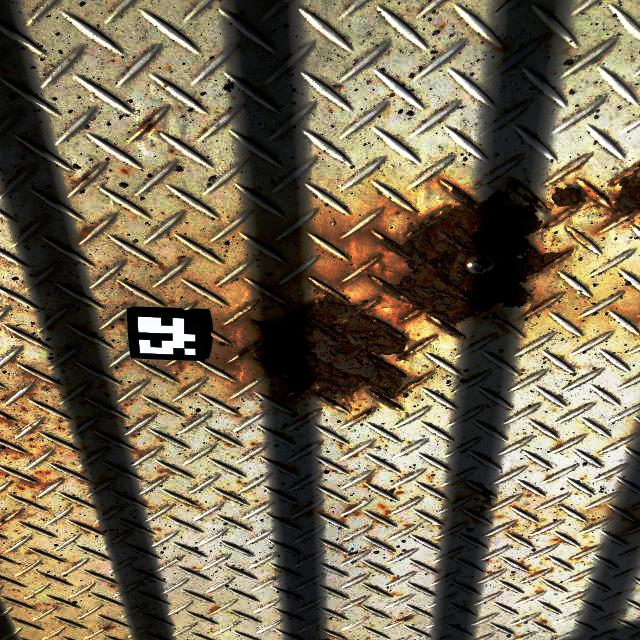Corrosion: (365, 177, 574, 339), (234, 288, 438, 410), (583, 160, 640, 226), (274, 276, 332, 306), (550, 184, 591, 216), (227, 316, 258, 352), (247, 294, 288, 321), (227, 356, 263, 384), (22, 369, 64, 389), (491, 313, 517, 336), (472, 489, 494, 515), (19, 476, 53, 489), (75, 167, 98, 186), (137, 116, 159, 134), (300, 407, 324, 423), (364, 253, 384, 272), (77, 225, 96, 244), (569, 230, 589, 247), (467, 513, 489, 527), (4, 447, 35, 456), (0, 414, 15, 429), (492, 42, 510, 52), (359, 407, 375, 417), (317, 635, 343, 640), (223, 495, 239, 503), (150, 633, 167, 640), (76, 478, 93, 485), (396, 615, 412, 622), (238, 305, 252, 313), (21, 422, 36, 429), (100, 625, 116, 631), (78, 527, 91, 534), (24, 392, 37, 399), (128, 449, 143, 455), (0, 468, 10, 476), (4, 394, 14, 402), (583, 546, 596, 552), (19, 406, 30, 413), (14, 333, 25, 340), (286, 467, 298, 473), (211, 607, 221, 614), (34, 471, 51, 475), (109, 412, 120, 418), (573, 576, 584, 582), (117, 281, 125, 289), (348, 504, 358, 510), (512, 532, 522, 538), (178, 362, 185, 370), (159, 263, 166, 271), (119, 316, 126, 324), (86, 303, 94, 310), (543, 33, 551, 40), (143, 413, 154, 418), (91, 450, 102, 455), (426, 174, 435, 180), (376, 519, 385, 525), (320, 510, 329, 516), (93, 527, 103, 532), (45, 324, 55, 329), (139, 499, 147, 505), (555, 444, 563, 450), (570, 557, 582, 561), (352, 415, 359, 421), (234, 411, 241, 417), (122, 169, 129, 175), (146, 578, 156, 582), (13, 514, 21, 519), (9, 358, 17, 363), (533, 571, 543, 575), (367, 476, 373, 482), (0, 518, 6, 524), (554, 539, 563, 543), (274, 568, 281, 573), (28, 430, 35, 435), (1, 488, 9, 492), (436, 569, 442, 574), (57, 477, 63, 482), (76, 504, 86, 507), (80, 401, 86, 406), (29, 273, 35, 278), (536, 591, 546, 594), (520, 560, 525, 566), (476, 182, 483, 186), (396, 491, 403, 495), (157, 476, 164, 480), (154, 528, 161, 532), (18, 487, 25, 491), (29, 444, 36, 448), (526, 493, 533, 497), (385, 510, 390, 515), (202, 128, 207, 133), (9, 480, 14, 485), (2, 68, 7, 73), (454, 496, 460, 500), (339, 444, 343, 450), (131, 434, 137, 438), (214, 281, 220, 285), (512, 523, 518, 527), (536, 527, 542, 531), (379, 505, 386, 508), (404, 525, 411, 528), (27, 551, 34, 554), (340, 518, 345, 522), (198, 506, 203, 510), (169, 471, 174, 475), (158, 470, 163, 474), (227, 443, 232, 447), (251, 442, 256, 446), (119, 420, 124, 424), (178, 257, 183, 261), (58, 420, 63, 424), (67, 503, 72, 507), (24, 364, 29, 368), (185, 503, 191, 506), (80, 471, 86, 474), (545, 557, 551, 560), (542, 620, 548, 623), (392, 549, 396, 553), (317, 441, 321, 445), (124, 403, 128, 407), (82, 446, 86, 450), (119, 364, 123, 368), (446, 500, 451, 503), (393, 577, 398, 580), (105, 393, 110, 396), (169, 301, 174, 304), (170, 150, 175, 153), (227, 111, 232, 114), (73, 451, 78, 454), (395, 212, 400, 215), (591, 518, 596, 521), (449, 484, 456, 486), (120, 638, 127, 640), (364, 485, 368, 488), (439, 526, 442, 530), (450, 509, 454, 512), (332, 470, 336, 473), (110, 585, 114, 588), (255, 500, 259, 503), (230, 491, 234, 494), (215, 436, 218, 440), (123, 302, 126, 306), (163, 85, 167, 88), (32, 496, 36, 499), (77, 456, 81, 459), (49, 280, 52, 284), (361, 398, 366, 400), (272, 578, 277, 580), (237, 481, 242, 483), (512, 506, 517, 508), (130, 399, 133, 402), (354, 408, 358, 410), (46, 604, 50, 606), (62, 429, 66, 431), (59, 462, 63, 464), (72, 463, 76, 465), (350, 470, 353, 472), (225, 250, 228, 252), (112, 60, 115, 62)
